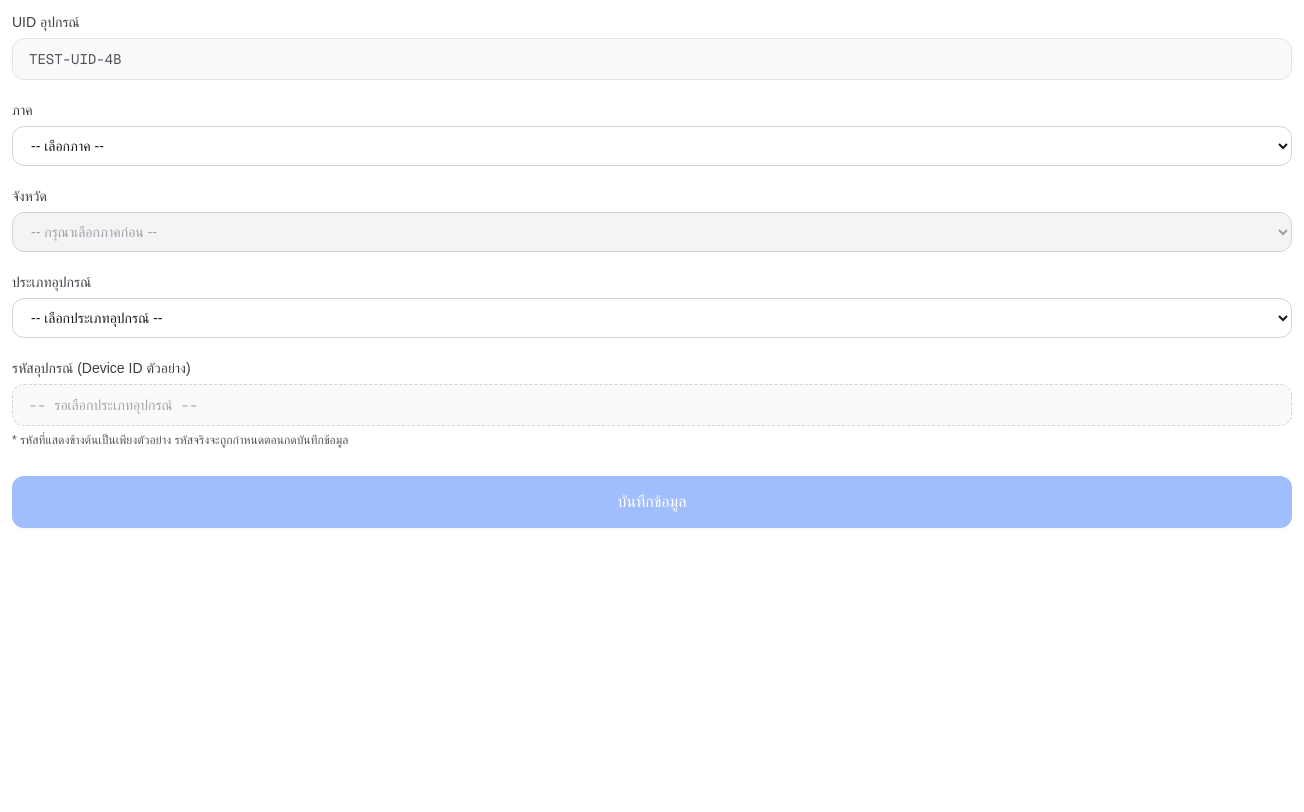
Test: Phase 4B: RegisterForm Unit & Component Tests › 500 Server Error → ฟอร์มคงข้อมูลเดิม และมีปุ่มลองใหม่
Step 1. Select "กลาง (22 จังหวัด)" in the dropdown with test id "reg-region" → (652, 146), box [12,126,1292,166]
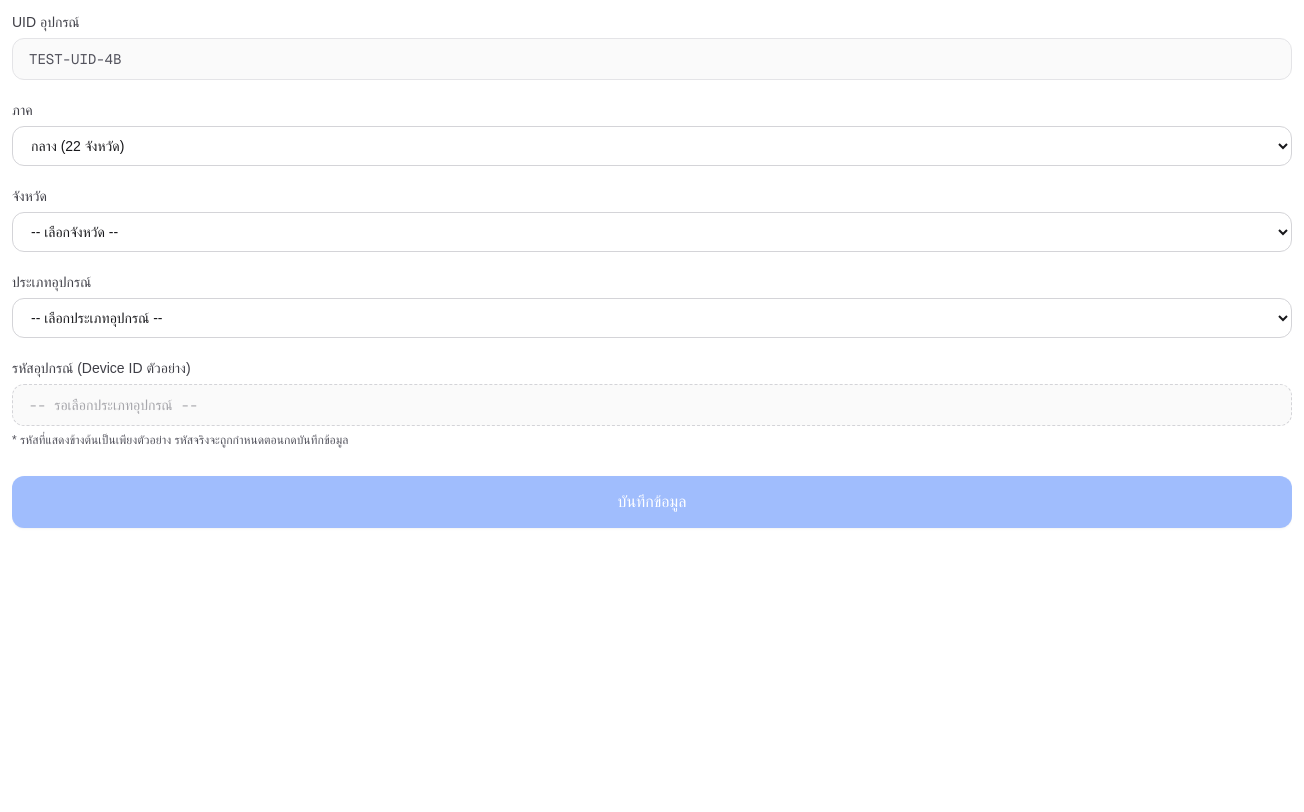
Step 2. Select "กรุงเทพมหานคร" in the dropdown with test id "reg-province" → (652, 232), box [12,212,1292,252]
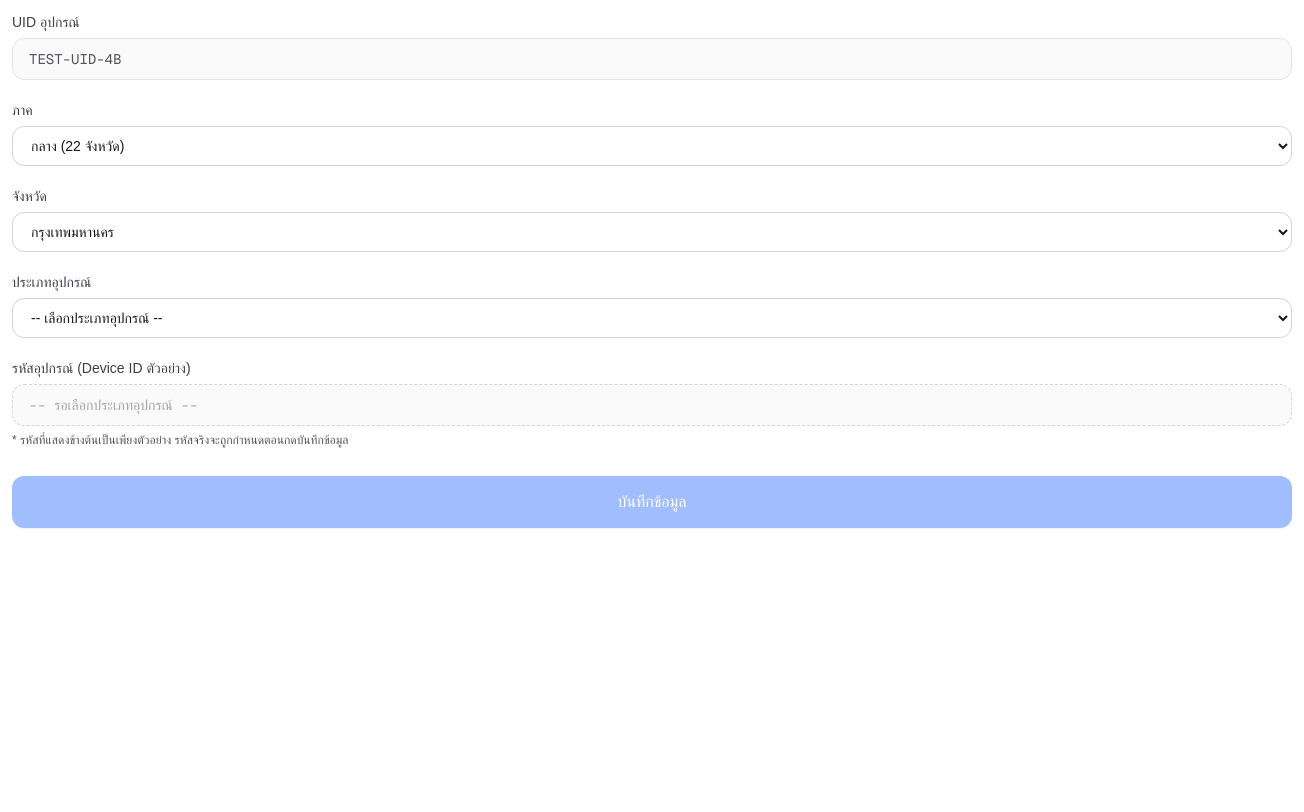
Step 3. Select "Kiosk (KSK)" in the dropdown with test id "reg-device-type" → (652, 318), box [12,298,1292,338]
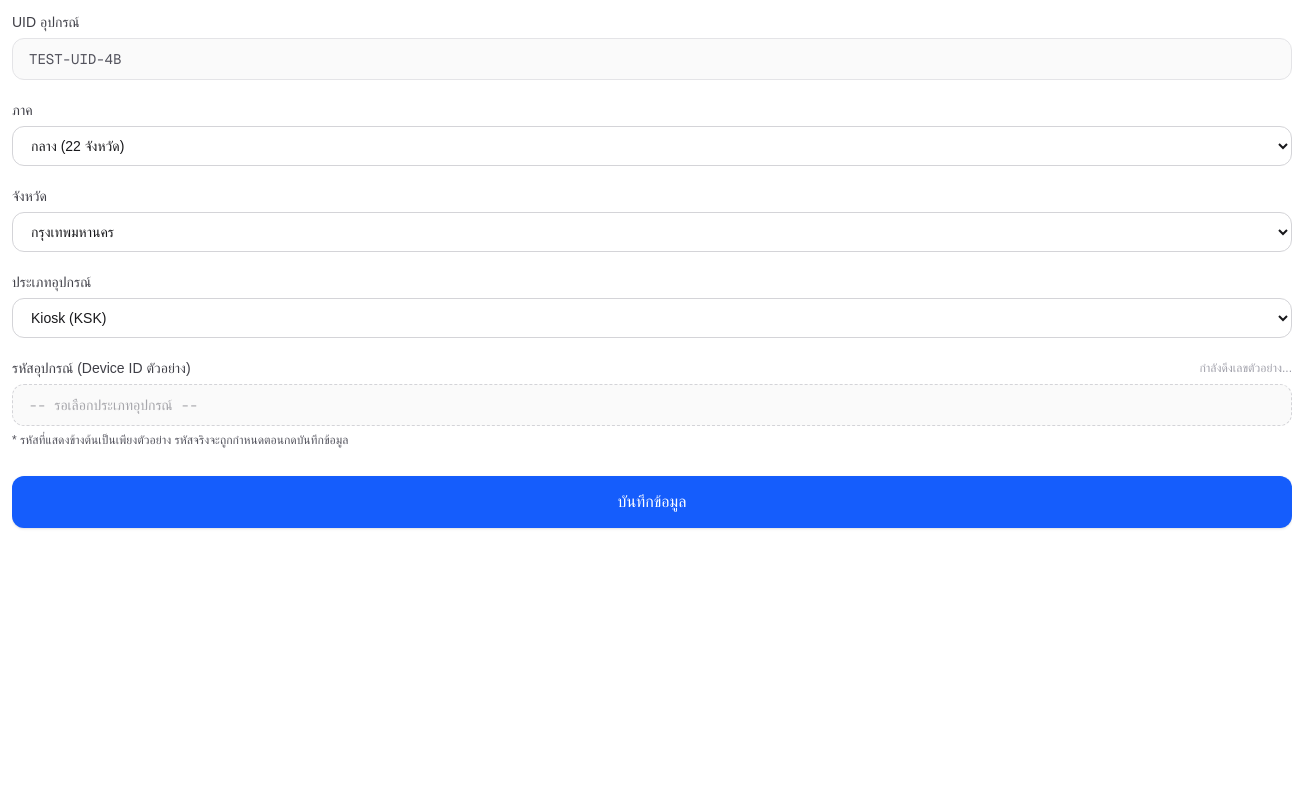
Step 4. Click the button with test id "btn-submit-registration" → (652, 502), box [12,476,1292,528]
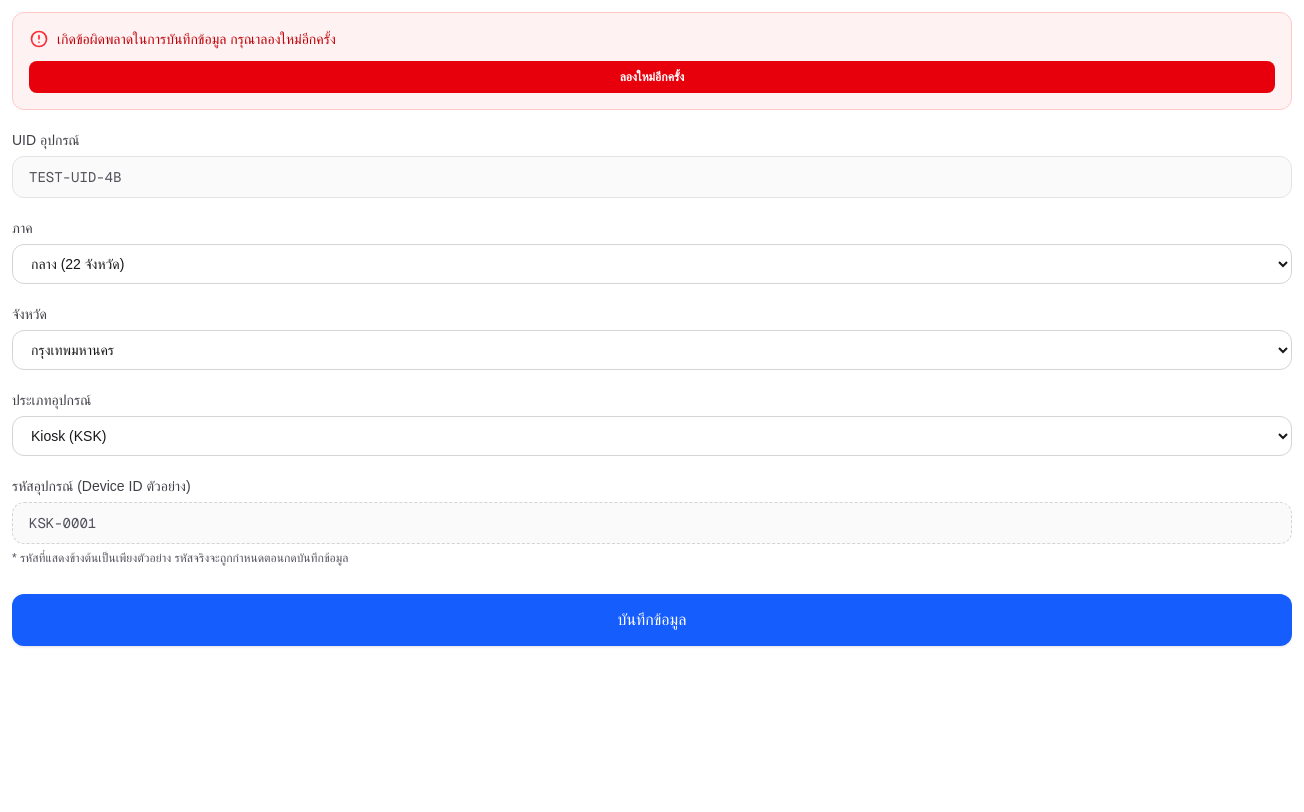
Expected: the message "เกิดข้อผิดพลาดในการบันทึกข้อมูล กรุณาลองใหม่อีกครั้ง ลองใหม่อีกครั้ง" is shown, [12,12,1292,110]
Expected: the button with test id "btn-retry-submit" is shown, [29,61,1275,93]
